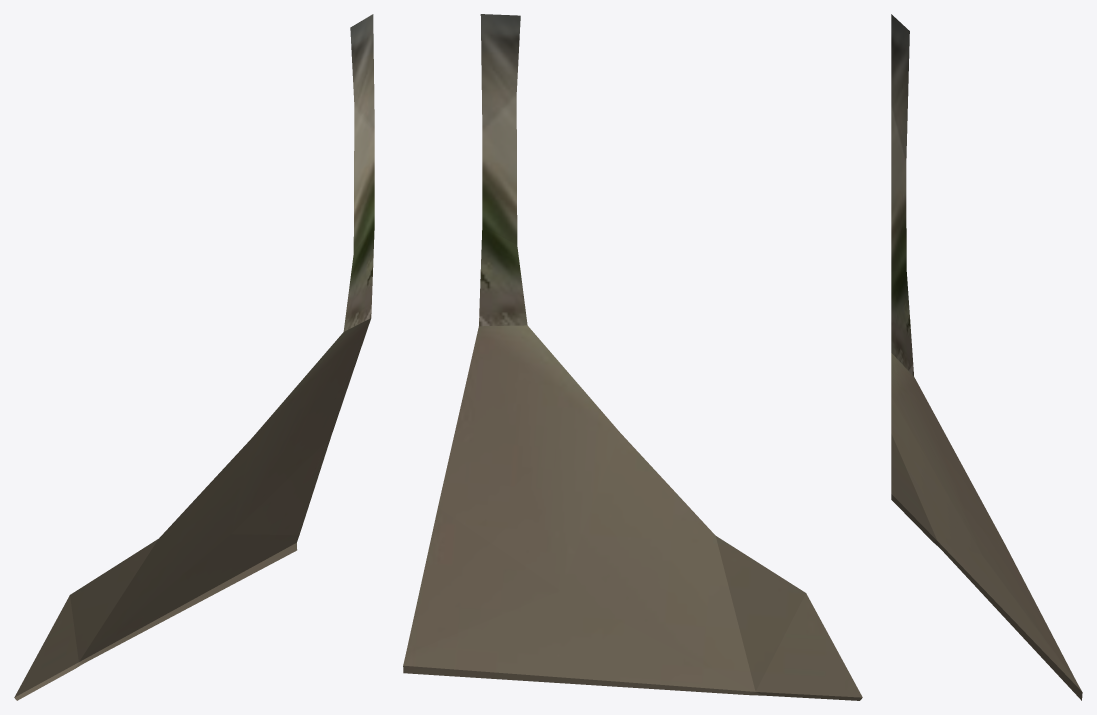
The picture shows the model from 3 angles, left to right: view 1: azimuth 30°, elevation 25°; view 2: azimuth 150°, elevation 25°; view 3: azimuth 270°, elevation 25°; orthographic projection. The views are drawn at different scales.
Size of the model in its own units: 1.09 by 1.67 by 0.4333.
1 material, 1 textured.
